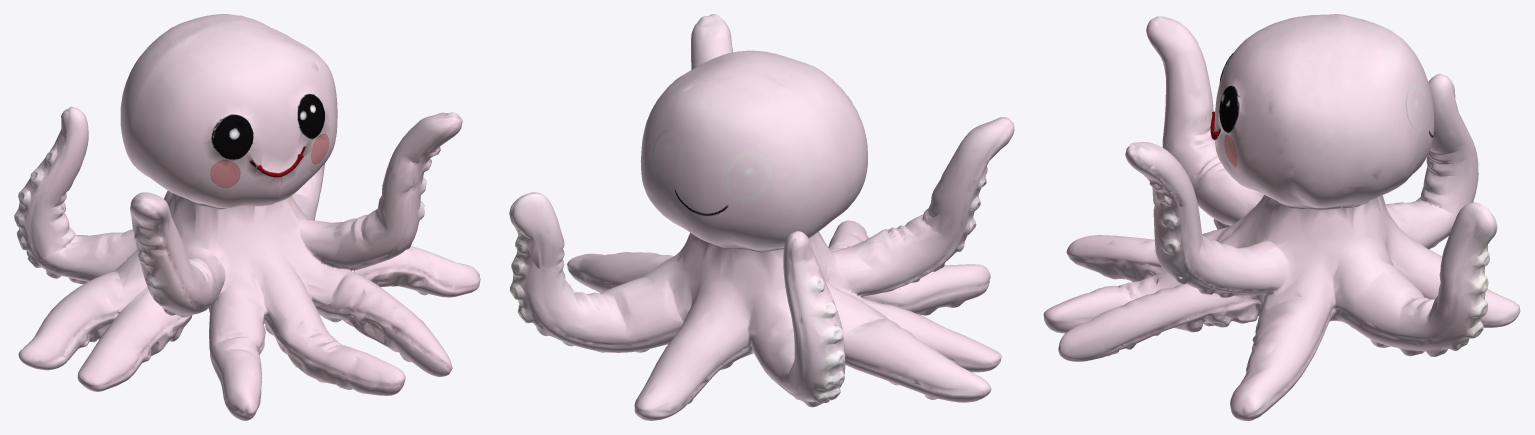
Rendered from chubby-octopus.glb.
3 views of the same model, side by side, from view 1: azimuth 30°, elevation 25°; view 2: azimuth 150°, elevation 25°; view 3: azimuth 270°, elevation 25° (orthographic). The views are drawn at different scales.
Bounding box in the file's own units: 1.91 × 1.2 × 1.77.
1 material, 1 textured.
